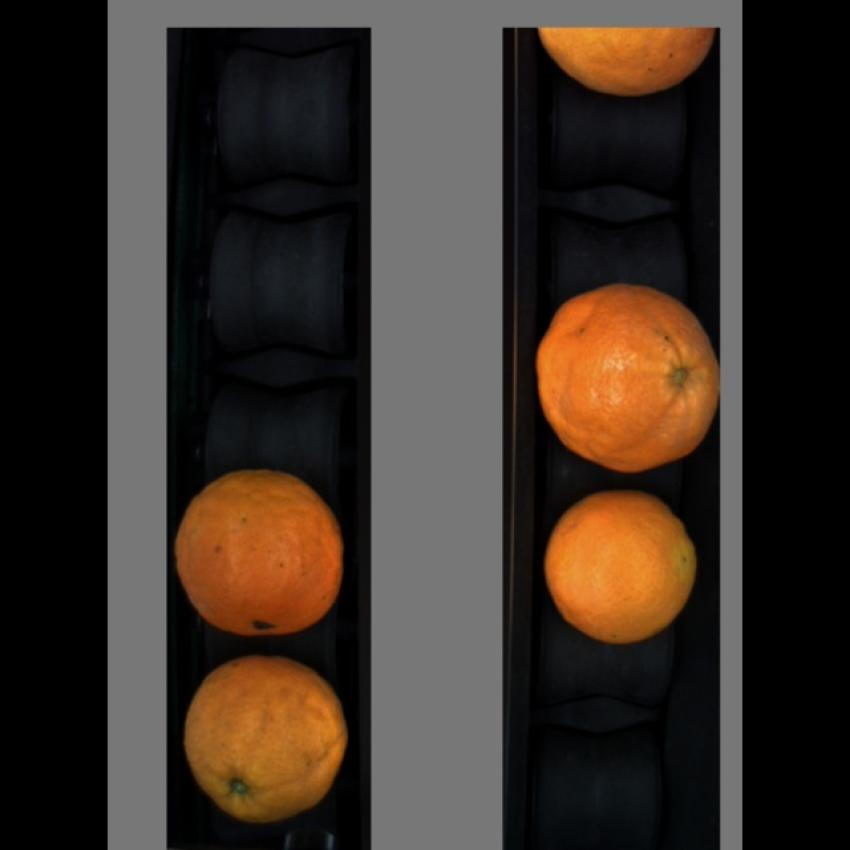Buen estado: (536, 27, 720, 99)
Mal estado: (532, 269, 722, 472), (174, 653, 354, 828), (169, 469, 351, 641), (538, 486, 707, 648)
